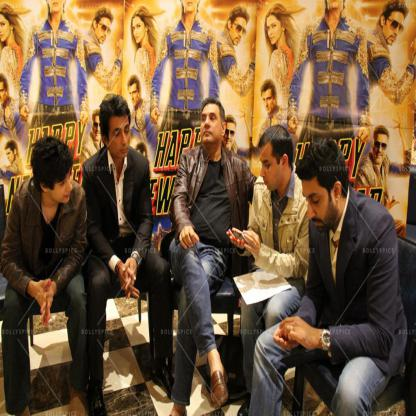face: (303, 175, 334, 233), (261, 146, 282, 191), (50, 165, 73, 204), (110, 117, 131, 159), (201, 105, 222, 142), (385, 11, 405, 46), (373, 134, 389, 164), (232, 15, 247, 46), (267, 17, 283, 45), (98, 15, 112, 45), (223, 122, 236, 149), (133, 19, 146, 44), (1, 15, 12, 43), (92, 117, 103, 141), (129, 84, 140, 108), (263, 91, 275, 113), (49, 1, 64, 13), (7, 146, 16, 165), (1, 82, 8, 106), (184, 1, 198, 13)
